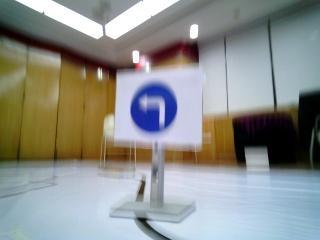left: (124, 71, 199, 147)
